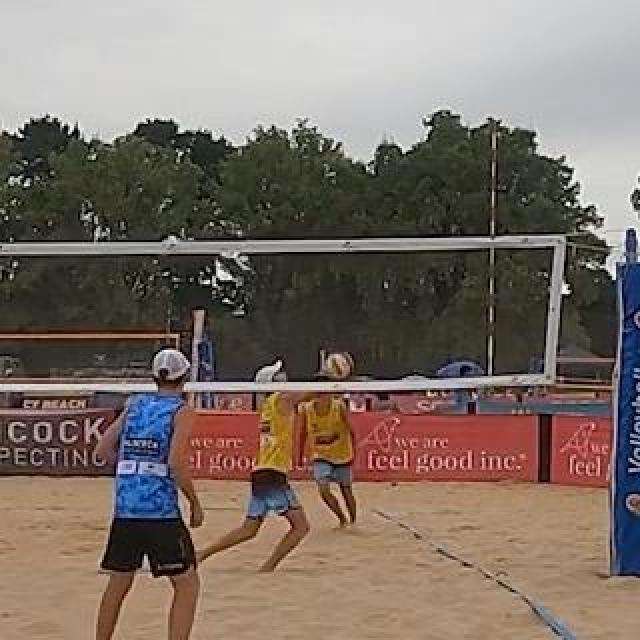volleyball: (328, 353, 354, 377)
